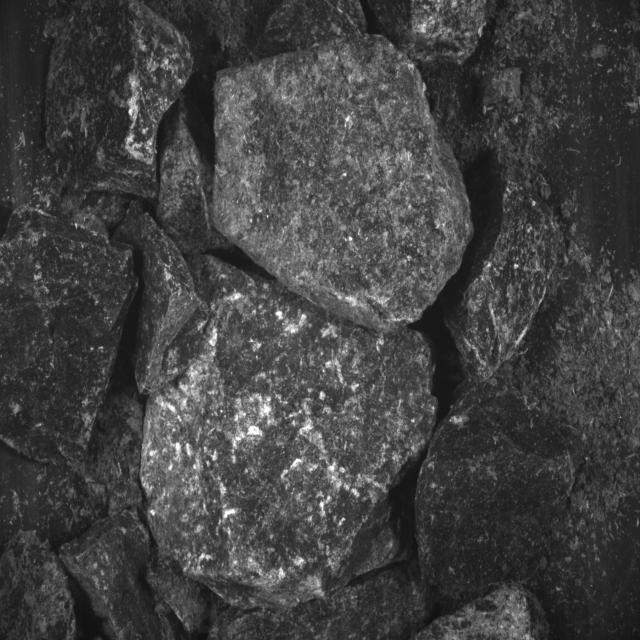Stones: (142, 257, 437, 607), (215, 36, 474, 332), (1, 208, 139, 466), (416, 384, 582, 591), (47, 1, 194, 199), (445, 151, 560, 382), (117, 203, 210, 395), (211, 561, 429, 640), (61, 512, 162, 640), (157, 96, 232, 256), (1, 531, 77, 640), (370, 1, 487, 66), (416, 585, 550, 640), (256, 1, 367, 60)
